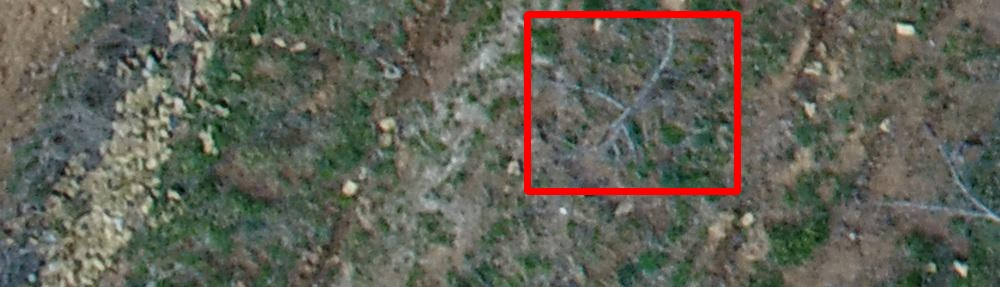apple: (527, 14, 737, 191)
